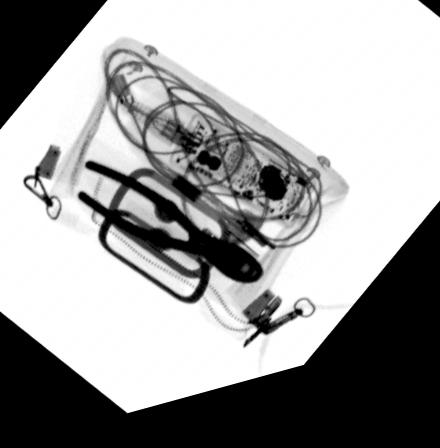Pliers: (73, 163, 264, 298)
